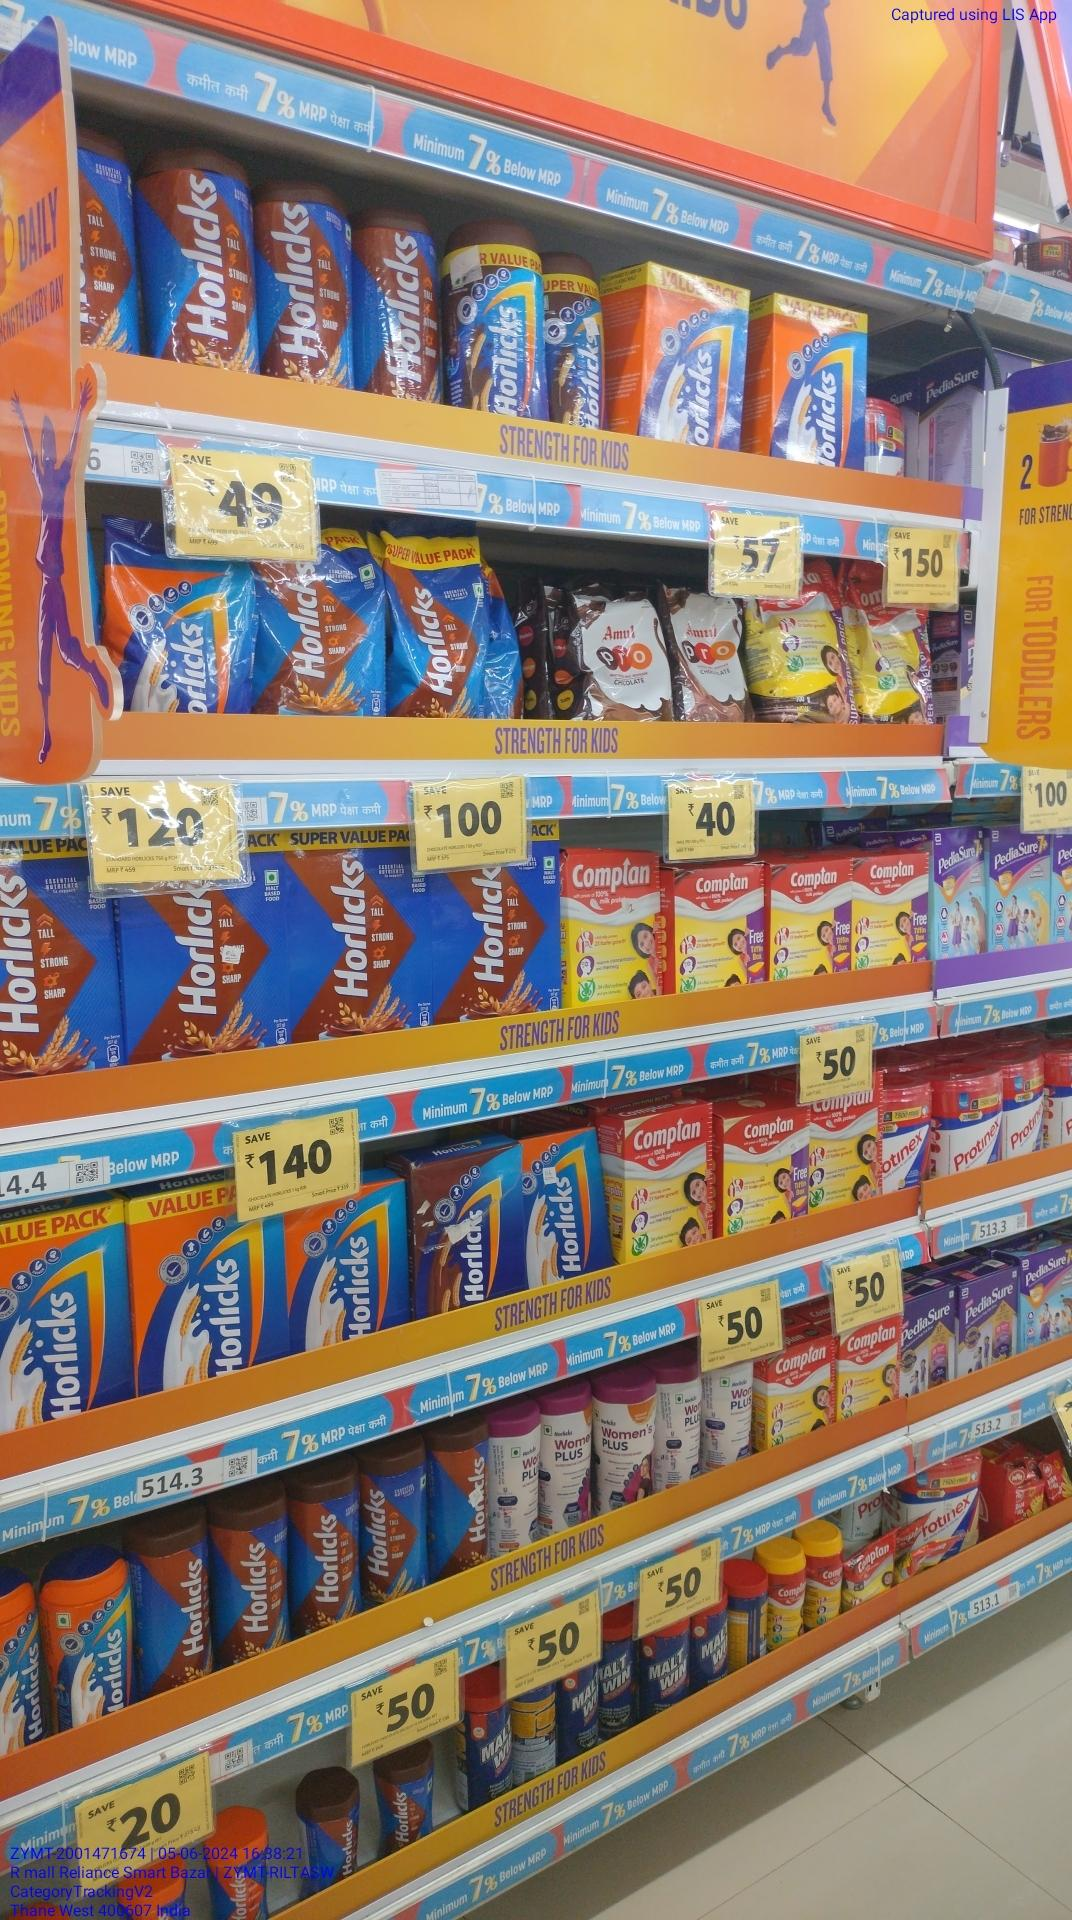COMPLAN_CHOCOLATE_200_GMS_JAR: (807, 1527, 843, 1629), (773, 1549, 807, 1650)
HORLICK_CHOCOLATE_1_KG_PACK: (131, 873, 291, 1079), (297, 827, 426, 1052), (0, 829, 112, 1073), (435, 865, 559, 1022)
HORLICK_CHOCOLATE_200_G_JAR: (302, 1778, 361, 1895), (378, 1745, 435, 1853)
HORLICK_CHOCOLATE_500_G_JAR: (142, 144, 258, 376), (353, 193, 444, 397), (262, 177, 349, 388), (137, 1502, 212, 1693), (216, 1491, 294, 1664), (297, 1465, 364, 1630), (367, 1445, 427, 1605), (434, 1422, 492, 1572)
PEDIASURE_7_PLUS_CHOCOLATE_400_G_PACK: (932, 828, 988, 957)
PROTINEX_CHOCOLATE_400_G_JAR: (881, 1084, 935, 1195), (945, 1071, 1002, 1171)
PROTINEX_VANILLA_400_G_JAR: (1005, 1055, 1050, 1159)
